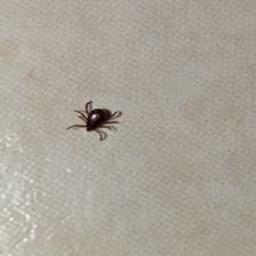Rhipicephalus sanguineus: (67, 102, 120, 140)
